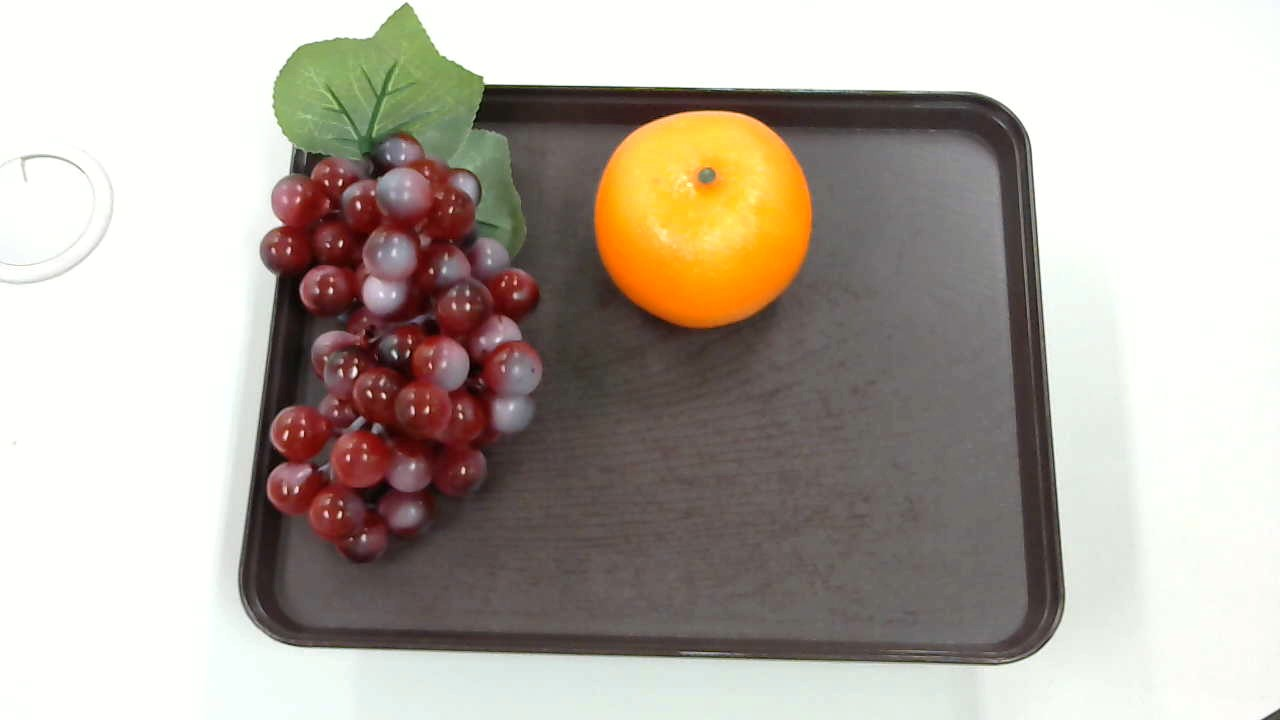grape: (257, 1, 542, 568)
orange: (595, 107, 815, 332)
